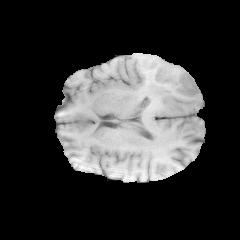glioma: (137, 62, 198, 112)
